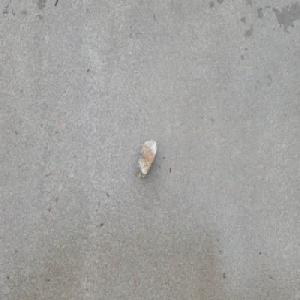Rock: (137, 136, 157, 178)
